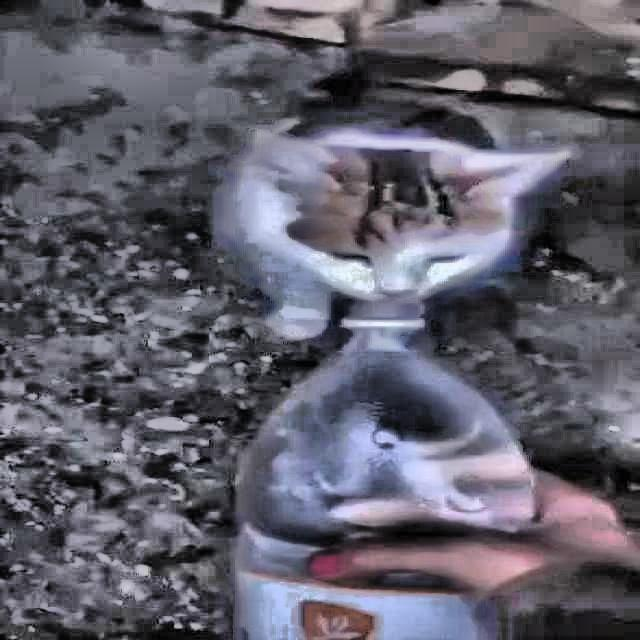plastic bottle: (236, 301, 533, 640)
